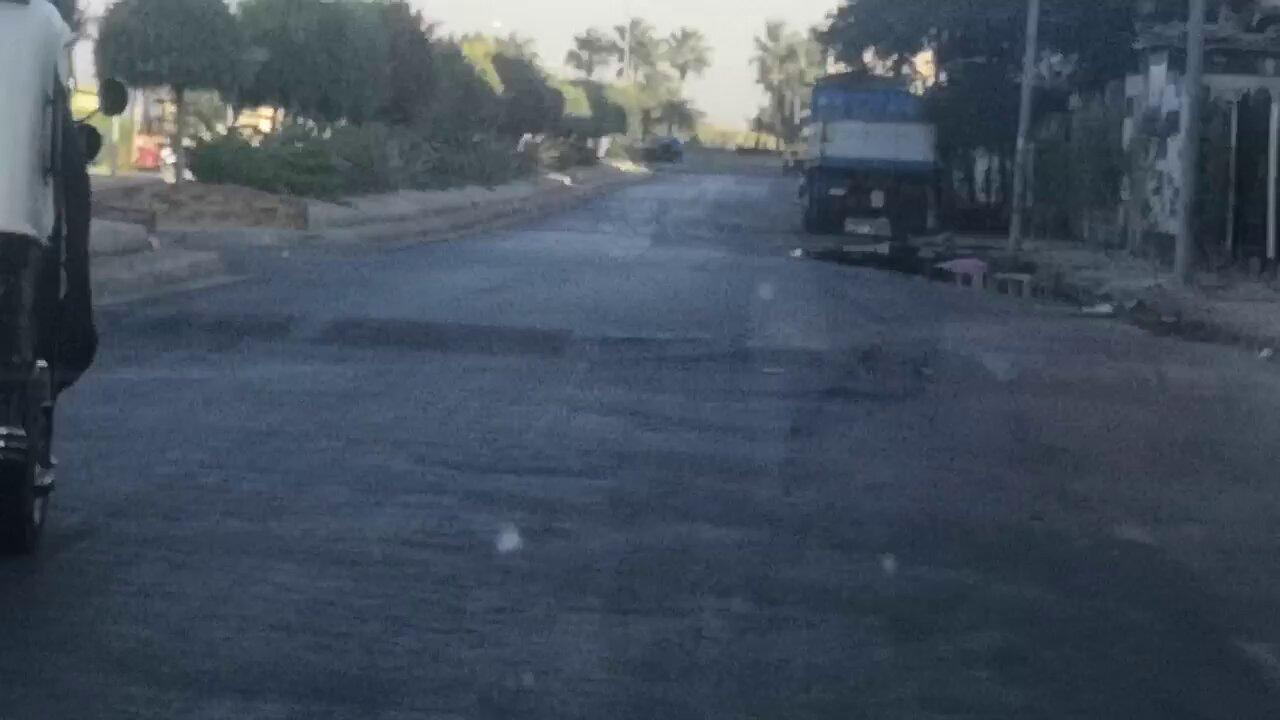Bump: (132, 292, 1280, 412)
